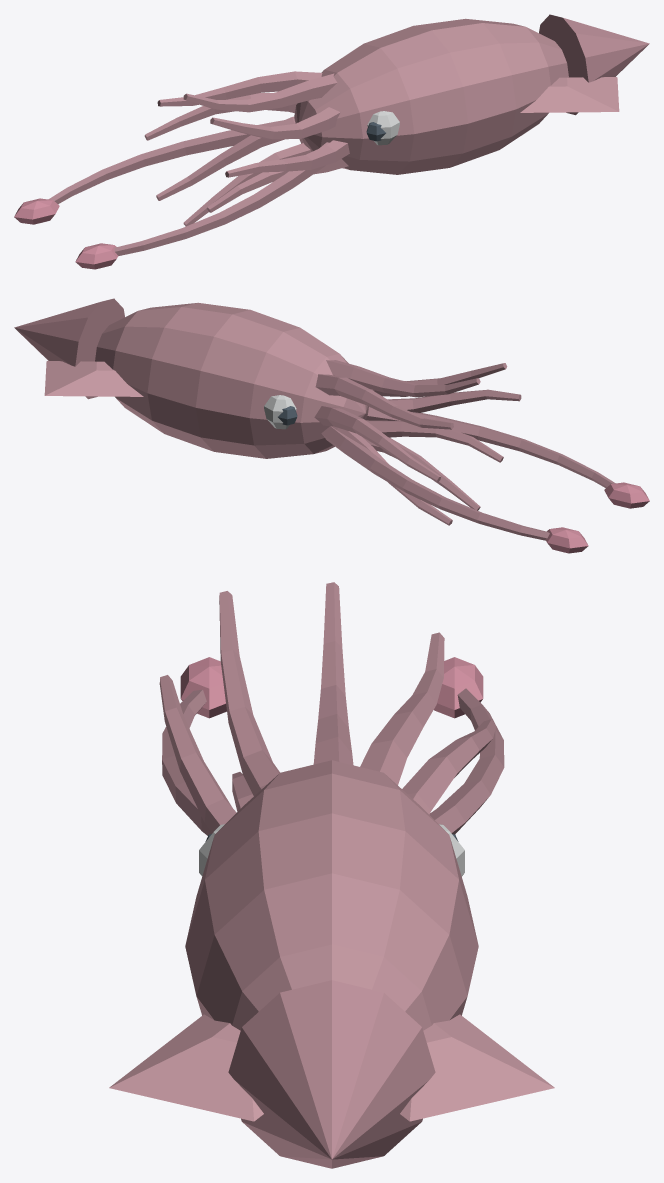
3 renders of one model, top to bottom at view 1: azimuth 30°, elevation 25°; view 2: azimuth 150°, elevation 25°; view 3: azimuth 270°, elevation 25°, orthographic. The views are drawn at different scales.
Parts seen in each view (by area): view 1: sea_squid; view 2: sea_squid; view 3: sea_squid.
Boxes of the visible parts, x1,y1,x2,y2 form: sea_squid: (14, 14, 649, 269); sea_squid: (14, 298, 649, 553); sea_squid: (109, 582, 554, 1168).
Bounding box in the file's own units: 5.9 × 1.28 × 1.89.
